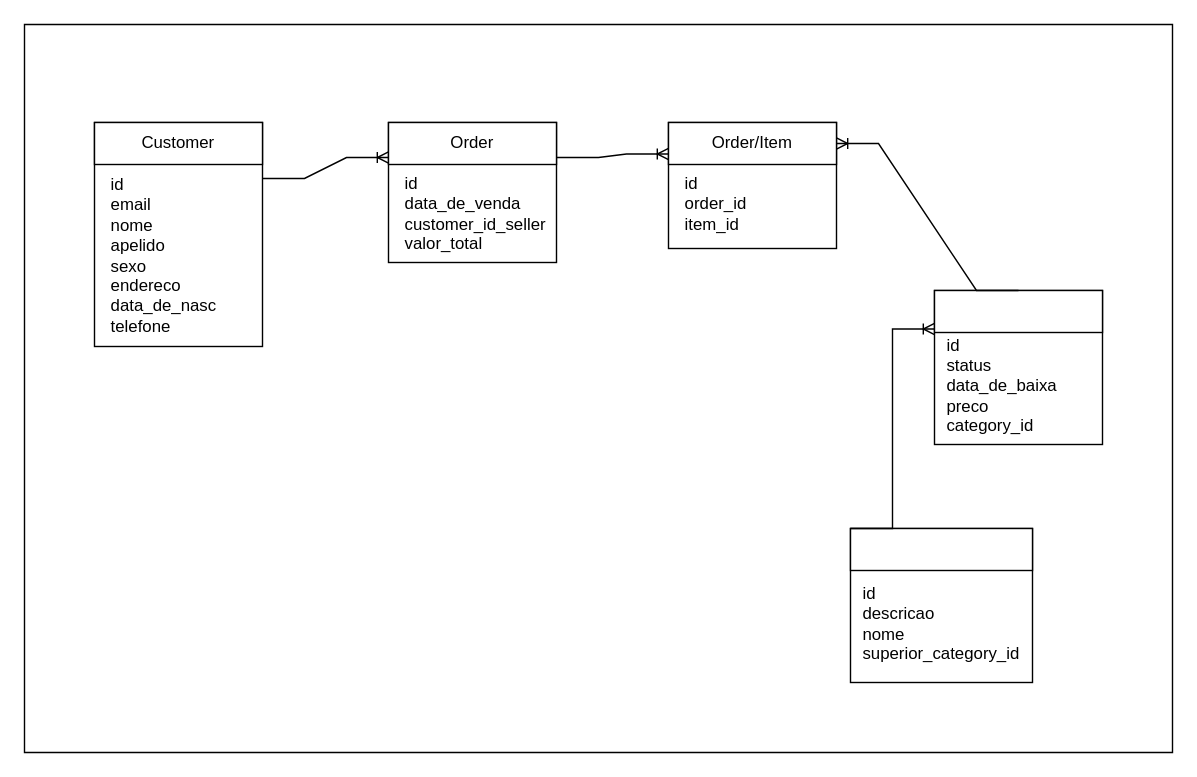
This 1197x777 diagram has some shape labels left out. The shapes that lost their labels are listed below. From the top down, each one's centre as x and y in pixels, then its label:
(1017,310): Item
(940,548): Category
